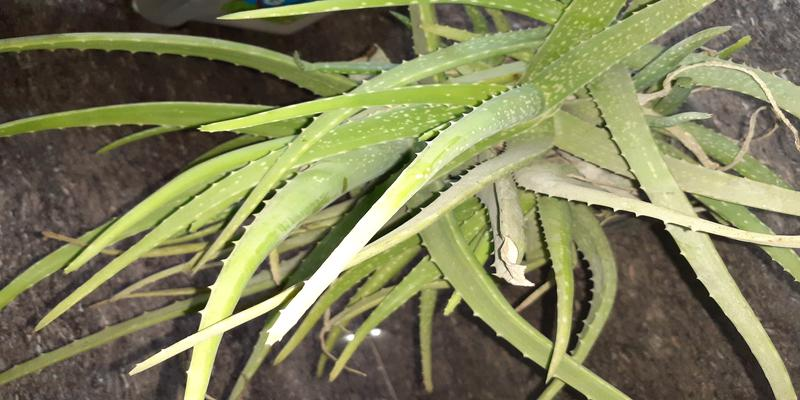Aloevera: (140, 37, 722, 342)
